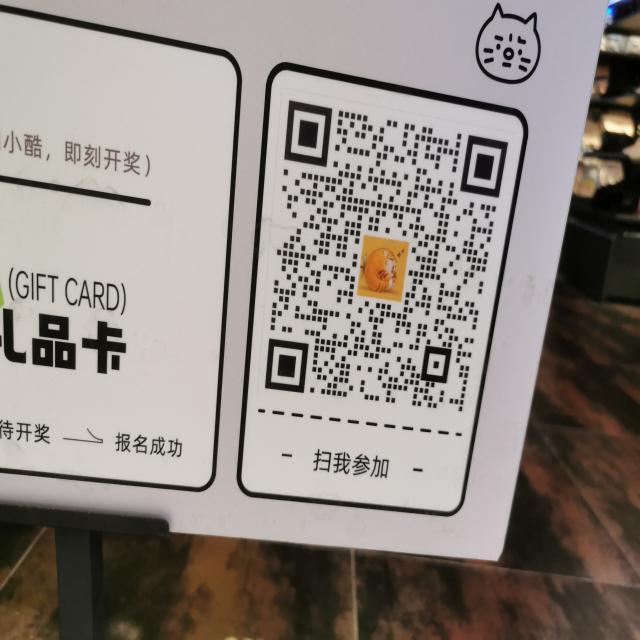qr_code: (264, 99, 508, 414)
